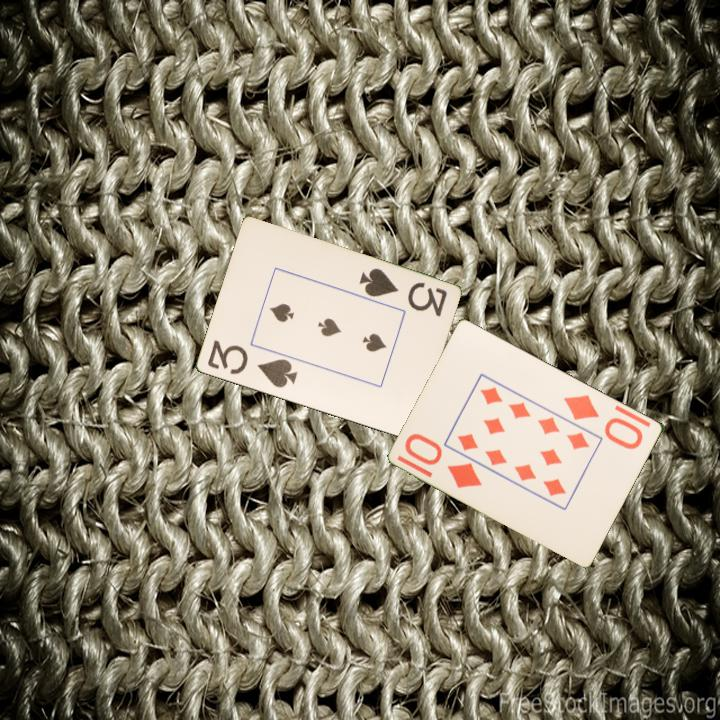10d: (560, 390, 646, 452), (401, 430, 485, 492)
3s: (203, 337, 300, 391), (355, 265, 450, 320)
